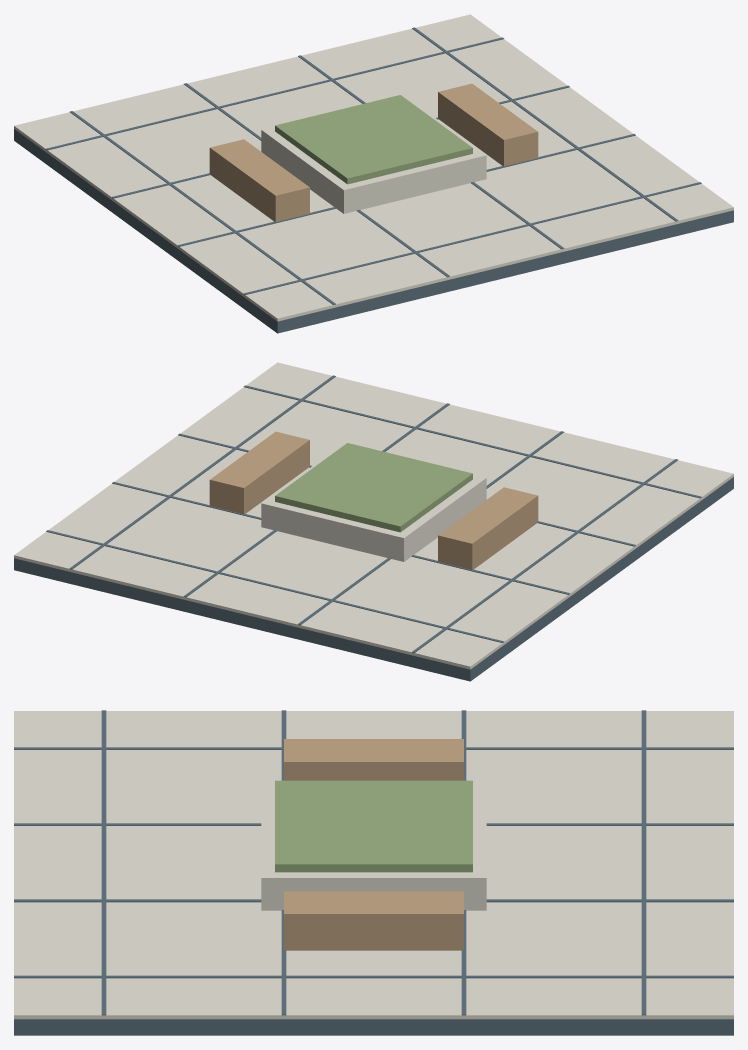
File: voxel-city-districts-pedestrian-plaza-b8225e6a__24828.glb
The picture shows the model from 3 angles, top to bottom: view 1: azimuth 30°, elevation 25°; view 2: azimuth 150°, elevation 25°; view 3: azimuth 270°, elevation 25°; orthographic projection. The views are drawn at different scales.
Visible parts, largest first — view 1: pedestrian-plaza-concrete, pedestrian-plaza-dark, pedestrian-plaza-green, pedestrian-plaza-wood; view 2: pedestrian-plaza-concrete, pedestrian-plaza-dark, pedestrian-plaza-green, pedestrian-plaza-wood; view 3: pedestrian-plaza-concrete, pedestrian-plaza-dark, pedestrian-plaza-green, pedestrian-plaza-wood.
Part boxes in pixels (<box>): pedestrian-plaza-concrete: <box>14,14,733,321</box>; pedestrian-plaza-dark: <box>14,27,733,333</box>; pedestrian-plaza-green: <box>275,95,472,184</box>; pedestrian-plaza-wood: <box>209,83,538,221</box>; pedestrian-plaza-concrete: <box>14,362,733,669</box>; pedestrian-plaza-dark: <box>14,375,733,681</box>; pedestrian-plaza-green: <box>275,443,472,532</box>; pedestrian-plaza-wood: <box>209,431,538,569</box>; pedestrian-plaza-concrete: <box>14,711,733,1019</box>; pedestrian-plaza-dark: <box>14,710,733,1035</box>; pedestrian-plaza-green: <box>275,780,472,872</box>; pedestrian-plaza-wood: <box>284,739,463,950</box>.
Bounding box in the file's own units: 8 × 0.7498 × 8.
